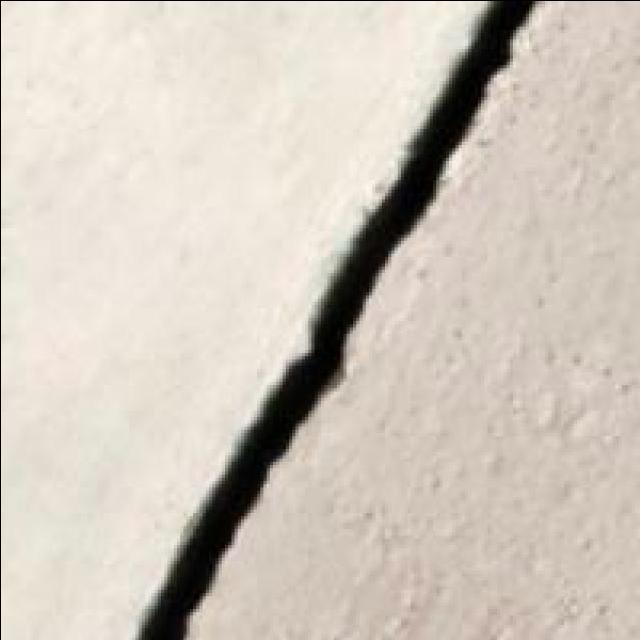SurfaceCrack: (116, 0, 558, 640)
